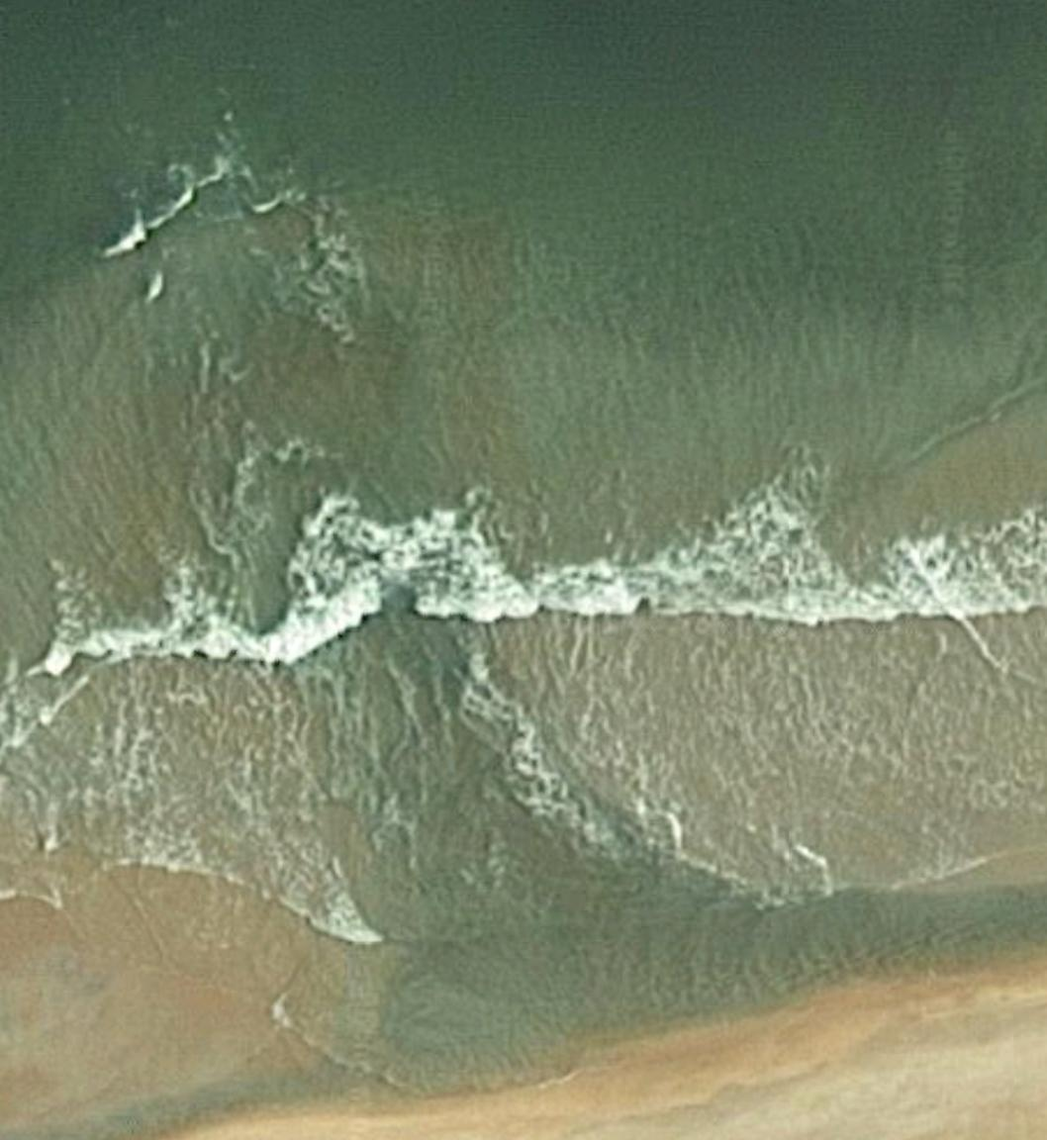rip_current: (150, 226, 602, 912)
